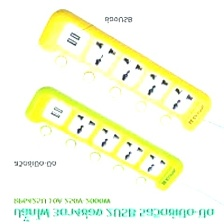three_eye_plug: (32, 4, 214, 142), (18, 81, 186, 200)
